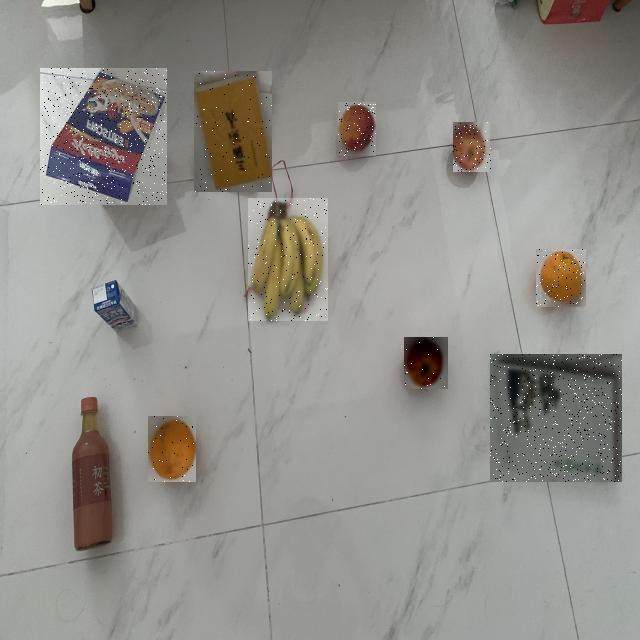Apple: (405, 337, 449, 389), (338, 103, 376, 157), (454, 122, 492, 172)
Banana: (248, 198, 328, 321)
Book: (490, 354, 622, 482), (195, 71, 273, 192)
Cereal: (40, 68, 167, 205)
Orange: (148, 416, 196, 482), (536, 249, 586, 307)
